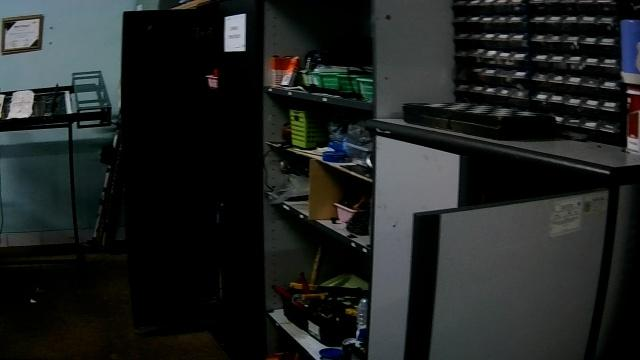Lemari: (367, 117, 613, 359)
Rak: (260, 0, 375, 359)
